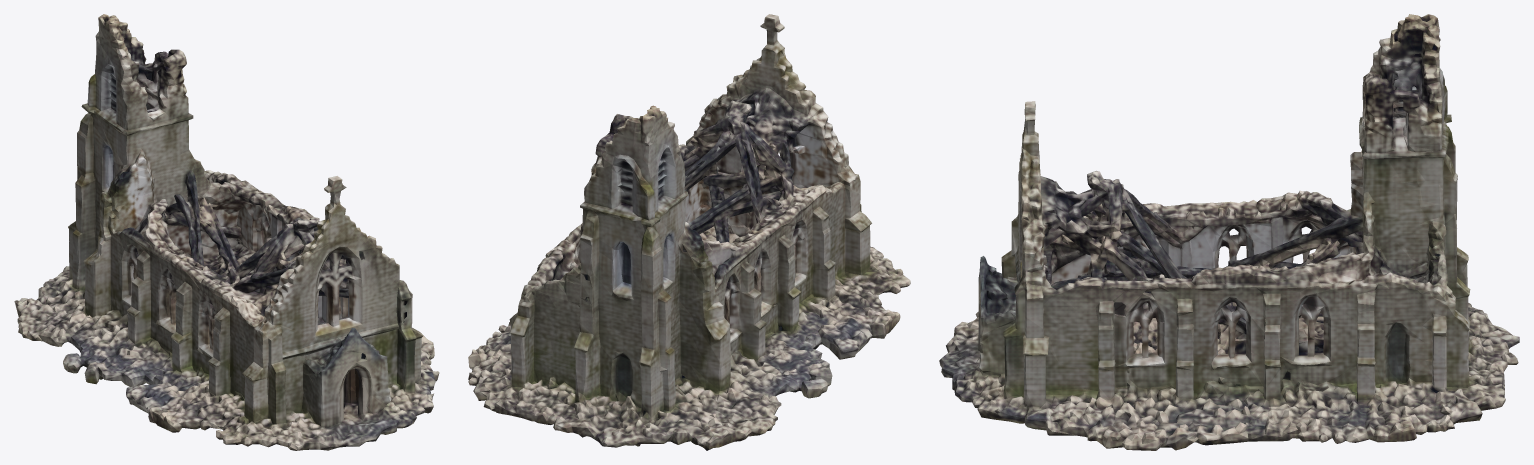
File: church_ruin.obj
3 views of the same model, side by side, from view 1: azimuth 30°, elevation 25°; view 2: azimuth 150°, elevation 25°; view 3: azimuth 270°, elevation 25° (orthographic). The views are drawn at different scales.
Visible parts, largest first — view 1: church_ruin; view 2: church_ruin; view 3: church_ruin.
Part boxes in pixels (left/top/right/bottom): church_ruin: left=14, top=14, right=439, bottom=450; church_ruin: left=468, top=14, right=910, bottom=450; church_ruin: left=939, top=14, right=1519, bottom=450.
Size of the model in its own units: 13.04 by 12 by 19.02.
1 material, 1 textured.
